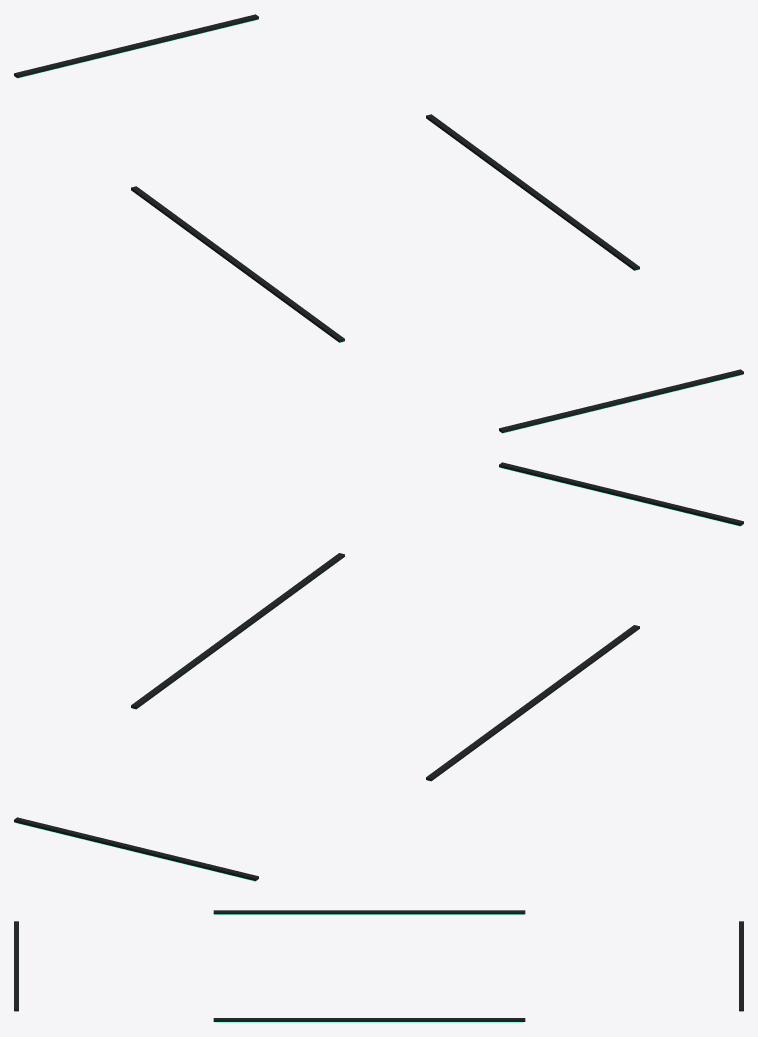
The model's file is strada_evo.glb.
3 renders of one model, top to bottom at view 1: azimuth 30°, elevation 25°; view 2: azimuth 150°, elevation 25°; view 3: azimuth 270°, elevation 25°, orthographic. The views are drawn at different scales.
Visible parts, largest first — view 1: model; view 2: model; view 3: model.
Part boxes in pixels (box(x1,y1,x2,y2)): model: box(14, 14, 743, 433); model: box(14, 462, 743, 881); model: box(14, 910, 743, 1022).
Bounding box in the file's own units: 1.48 × 0.0178 × 4.16.
Materials: 2 (1 with a texture image).
